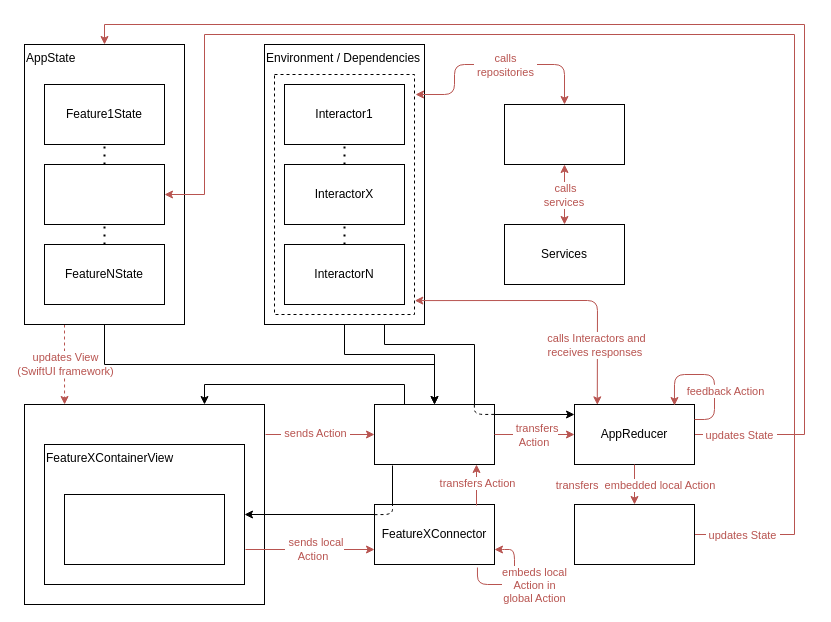
The diagram is 831 pixels wide and 622 high, and some of its shapes have lost their labels. The shapes that lost their labels are listed below. From the top down, each one's box as (x1, y1, x2, y2) in pixels, then its label:
(504, 104, 624, 164): Repositories
(44, 164, 164, 224): FeatureXState
(374, 404, 494, 464): Store
(24, 404, 264, 604): AppContainerView
(64, 494, 224, 564): FeatureXView
(574, 504, 694, 564): FeatureXReducer
